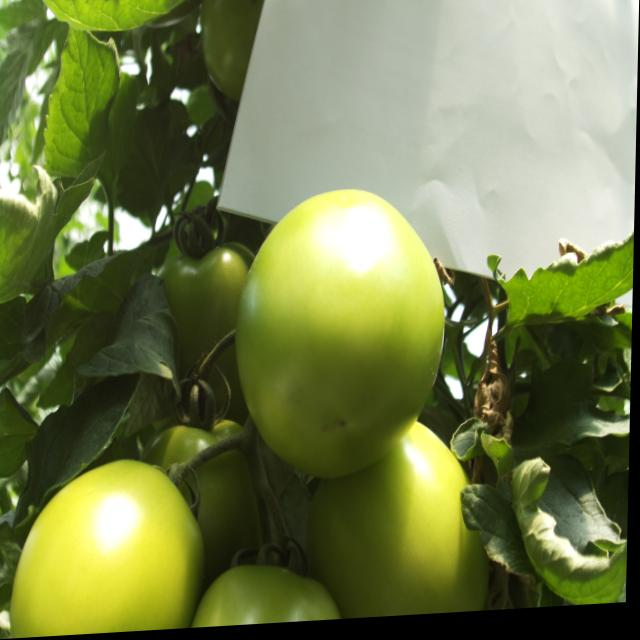yesil: (215, 166, 465, 495), (0, 373, 293, 639)
